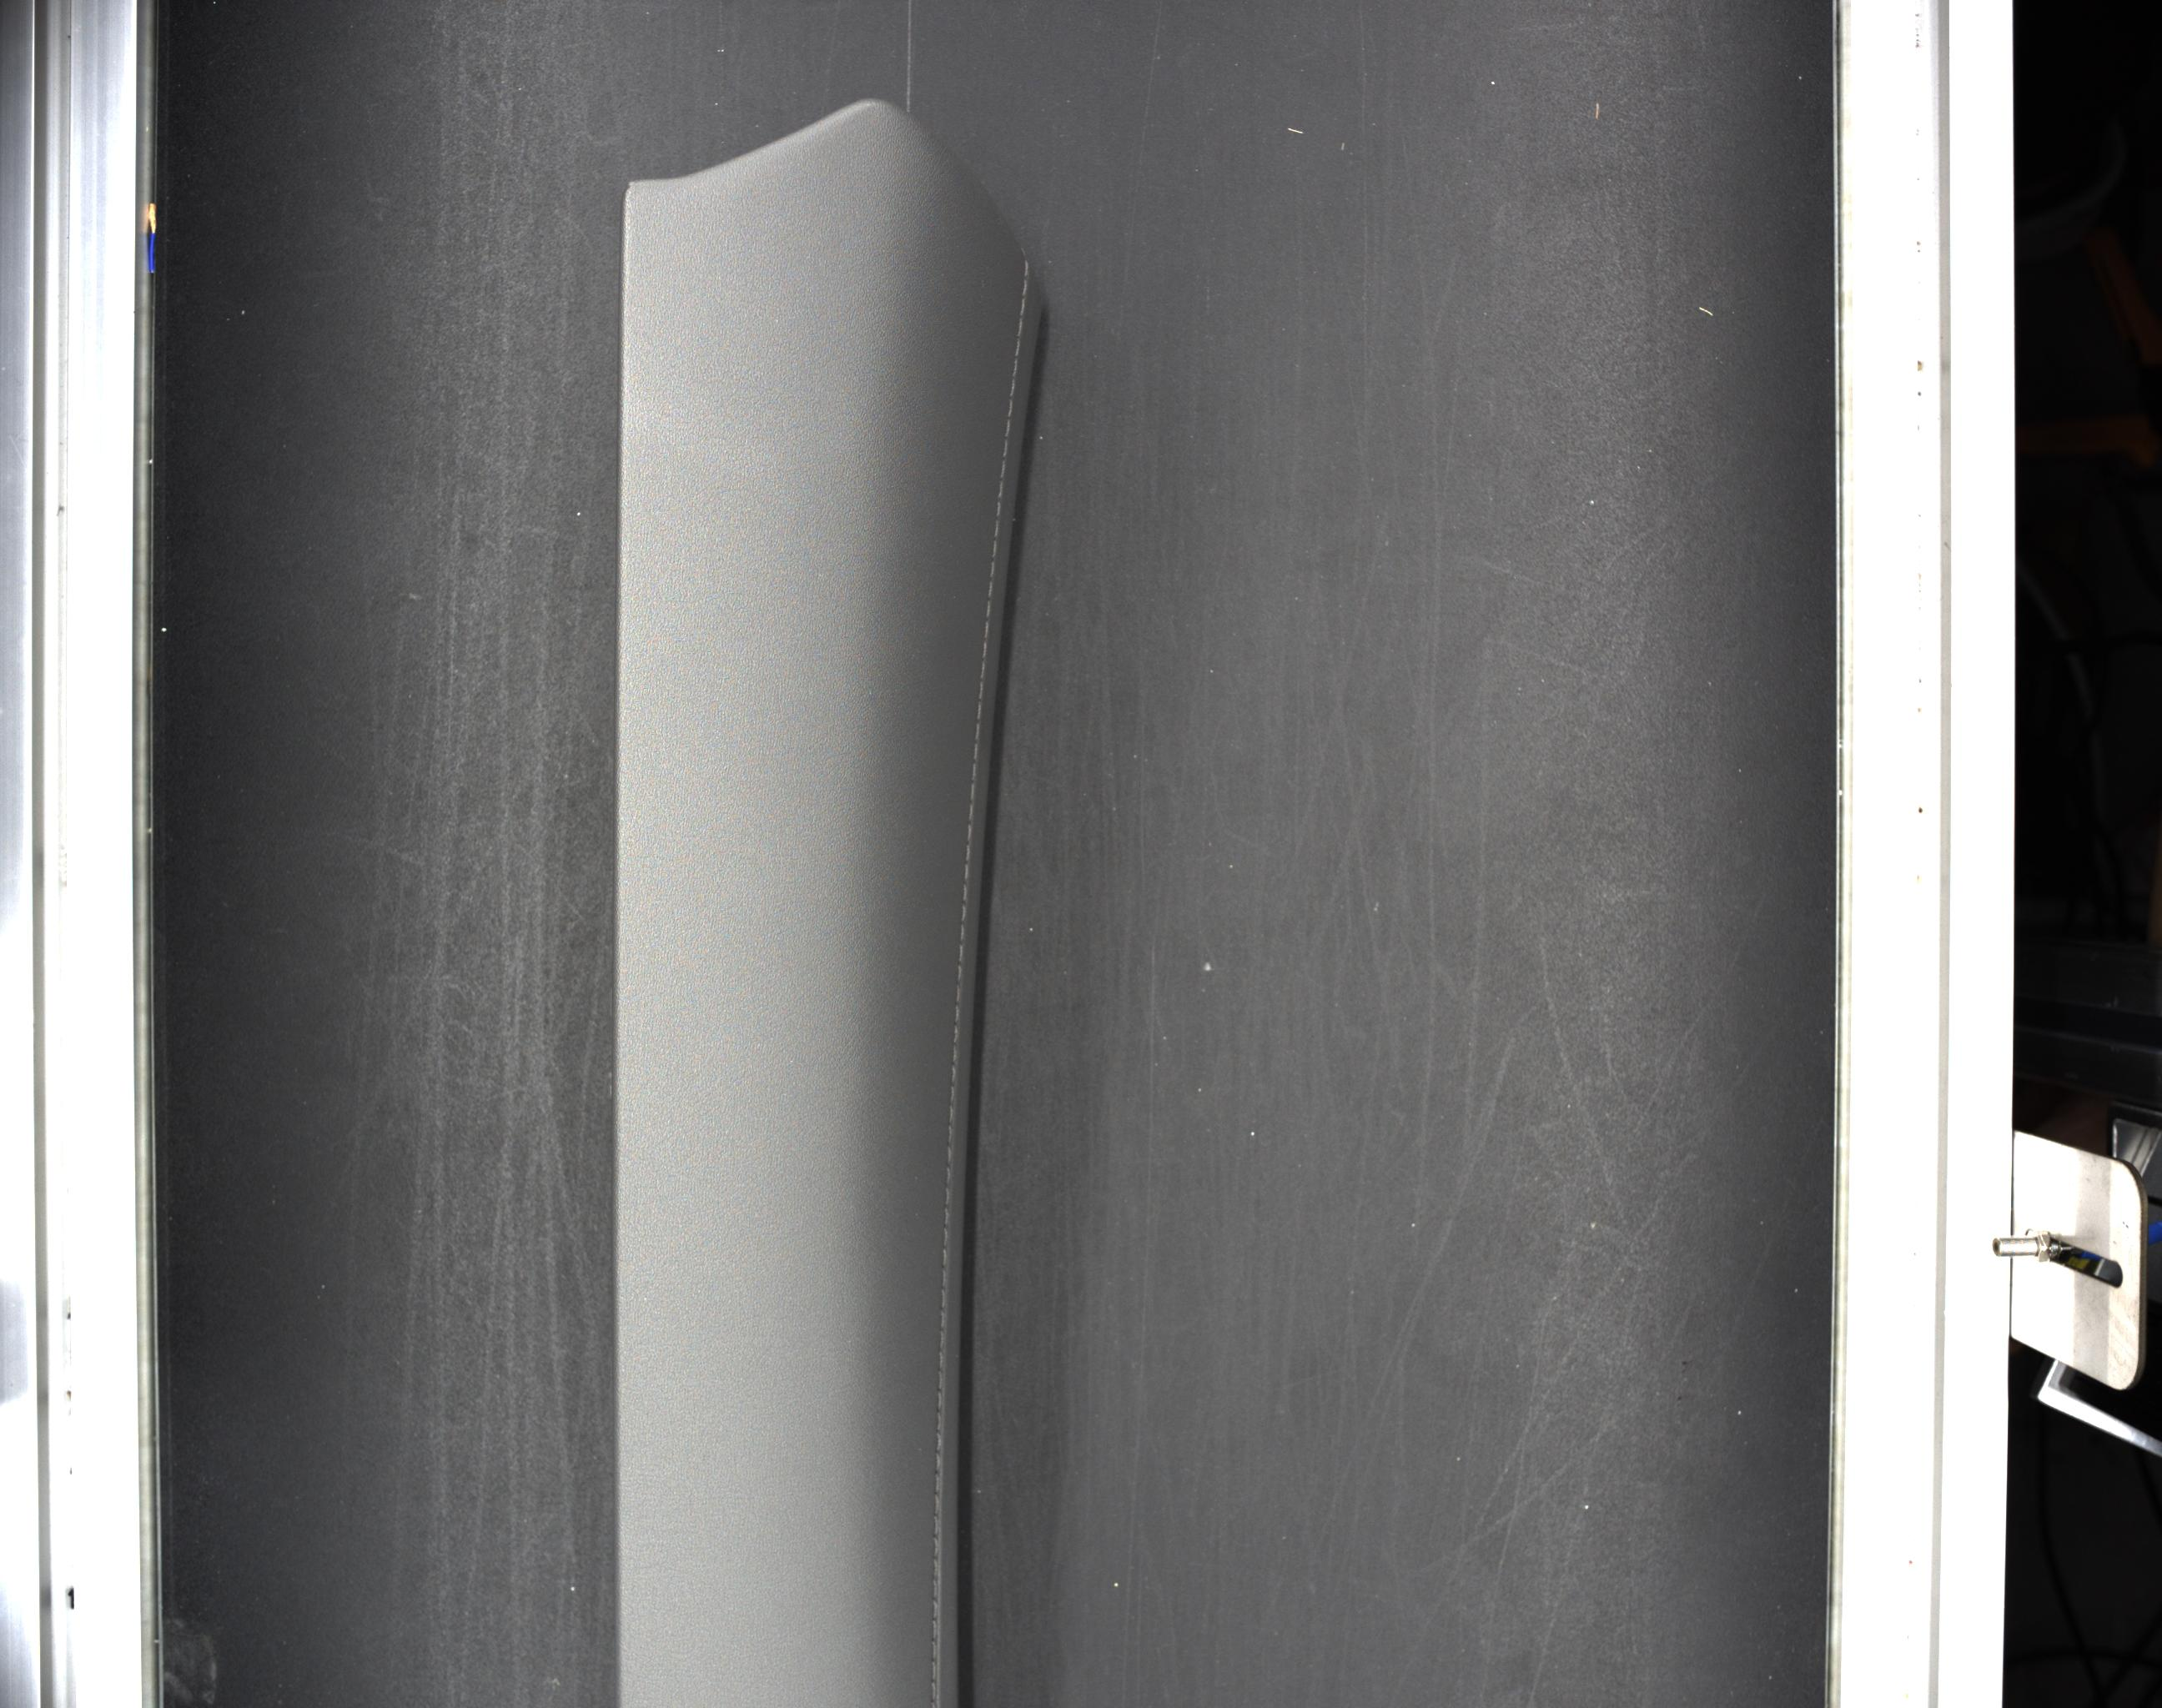vline: (1018, 298, 1025, 318), (935, 1411, 942, 1431), (1007, 400, 1014, 418), (986, 581, 993, 599), (981, 641, 988, 658), (970, 762, 977, 779), (965, 825, 972, 843), (939, 1332, 946, 1350), (935, 1432, 942, 1450), (930, 1683, 937, 1701), (1023, 258, 1028, 279), (1016, 319, 1023, 335), (1004, 420, 1011, 435), (999, 462, 1006, 477), (983, 621, 990, 637), (979, 662, 986, 678), (969, 785, 976, 800), (948, 1108, 955, 1123), (1021, 279, 1027, 298), (1013, 358, 1018, 377), (955, 985, 960, 1004), (946, 1146, 951, 1166), (944, 1208, 949, 1227), (937, 1371, 942, 1390), (934, 1496, 939, 1515), (932, 1601, 937, 1620), (932, 1620, 937, 1640), (1002, 441, 1007, 458), (997, 483, 1002, 500), (992, 541, 997, 558), (977, 683, 983, 700), (956, 965, 962, 983), (953, 1027, 958, 1044), (949, 1087, 955, 1104), (944, 1188, 949, 1206), (942, 1229, 948, 1246), (941, 1290, 946, 1308), (935, 1392, 941, 1410), (935, 1453, 941, 1471), (935, 1475, 941, 1492), (934, 1518, 939, 1536), (932, 1539, 937, 1557), (932, 1559, 937, 1576), (932, 1580, 937, 1597), (932, 1643, 937, 1661), (1014, 341, 1020, 356), (993, 521, 999, 537), (990, 560, 995, 576), (984, 602, 990, 618), (976, 704, 981, 720), (974, 744, 979, 760), (965, 846, 970, 862), (963, 865, 969, 881), (960, 925, 965, 941), (958, 946, 963, 962), (955, 1006, 960, 1022), (951, 1046, 956, 1062), (951, 1067, 956, 1083), (948, 1127, 953, 1143), (946, 1169, 951, 1185), (941, 1313, 946, 1329), (939, 1352, 944, 1367), (932, 1664, 937, 1680), (1009, 381, 1014, 395), (974, 725, 979, 739), (962, 904, 965, 922), (942, 1271, 946, 1288), (969, 804, 972, 820), (963, 885, 967, 901), (942, 1250, 946, 1266), (997, 502, 1000, 516)
